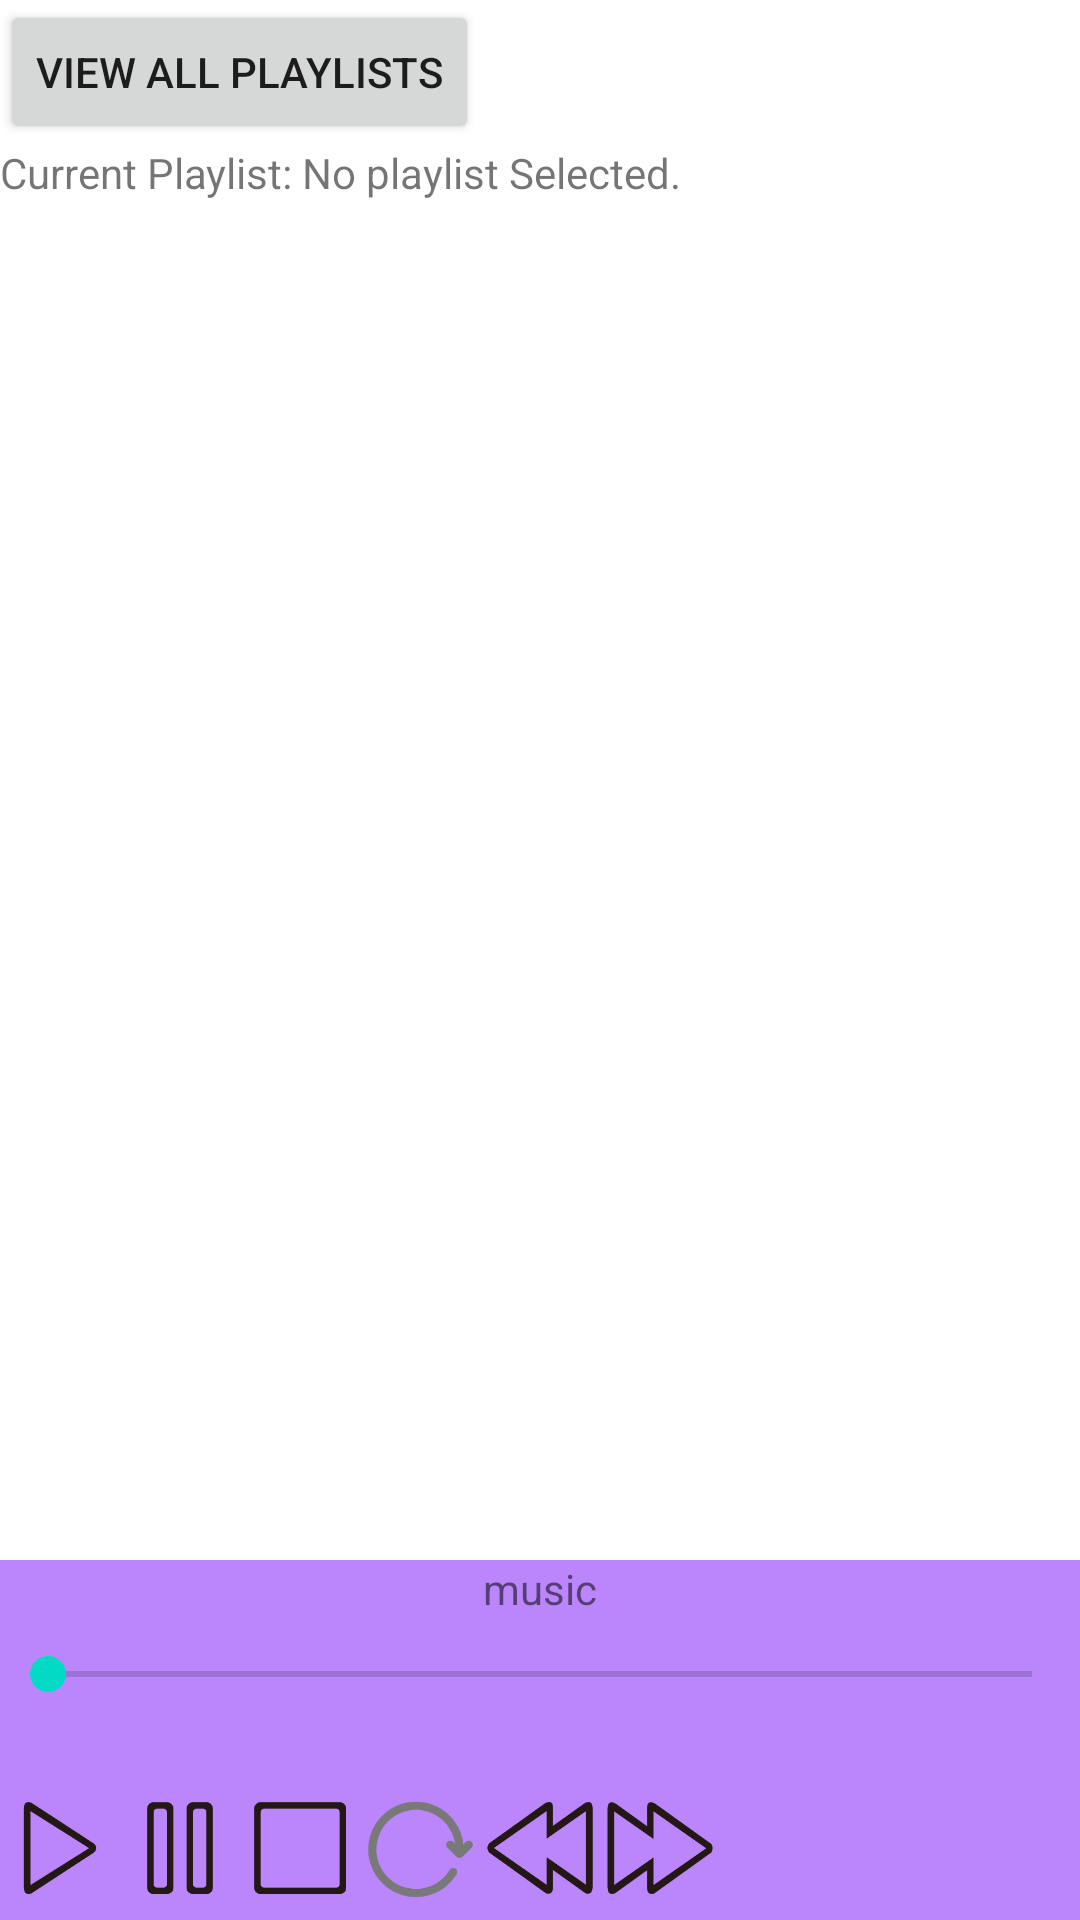

Point at icon controls on the screen. Image size 1080*1920, points as point (x, y).
next music: point (660, 1848)
pause: point (180, 1848)
play: point (60, 1848)
previous music: point (540, 1848)
restart: point (420, 1849)
stop music: point (300, 1848)
